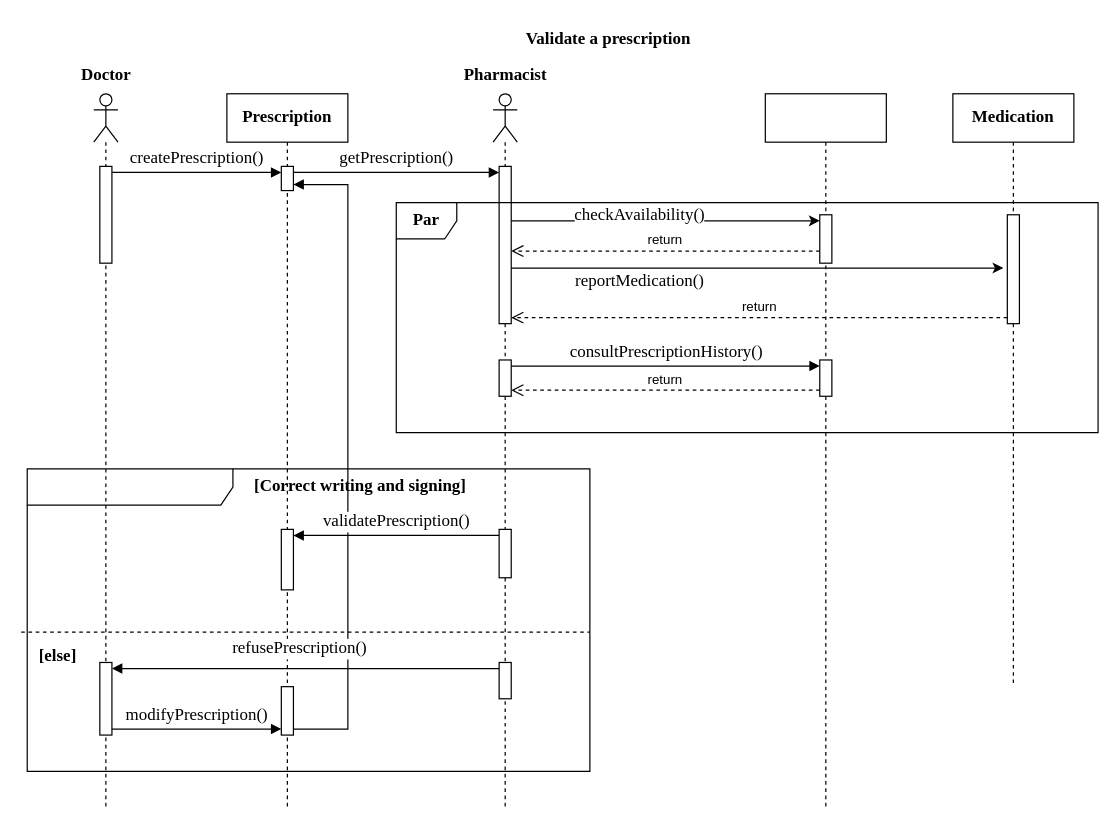
Image size: 1119x829. Some labels were removed from this diagram. The shapes that lost their labels are listed below. From the top down, each one's box as (x1, y1, x2, y2) in pixels, then its label:
(764, 93, 886, 808): Inventory
(26, 468, 590, 771): Alt
